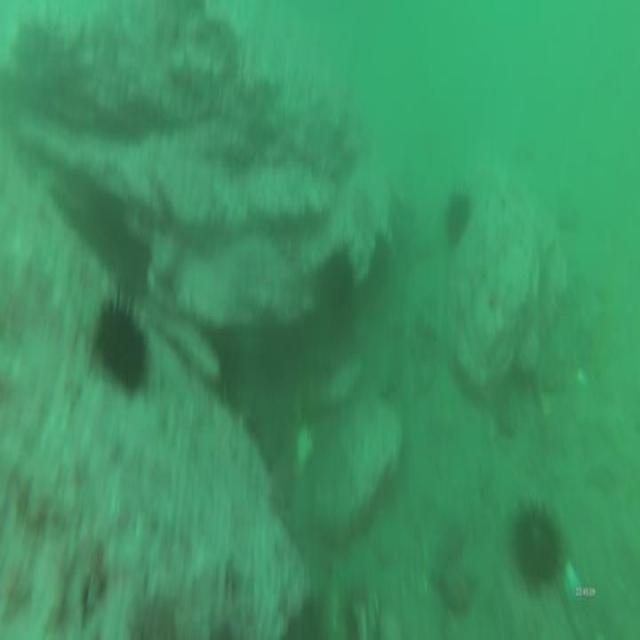echinus: (89, 284, 151, 400), (510, 495, 564, 599), (316, 244, 358, 326), (442, 185, 473, 250)
